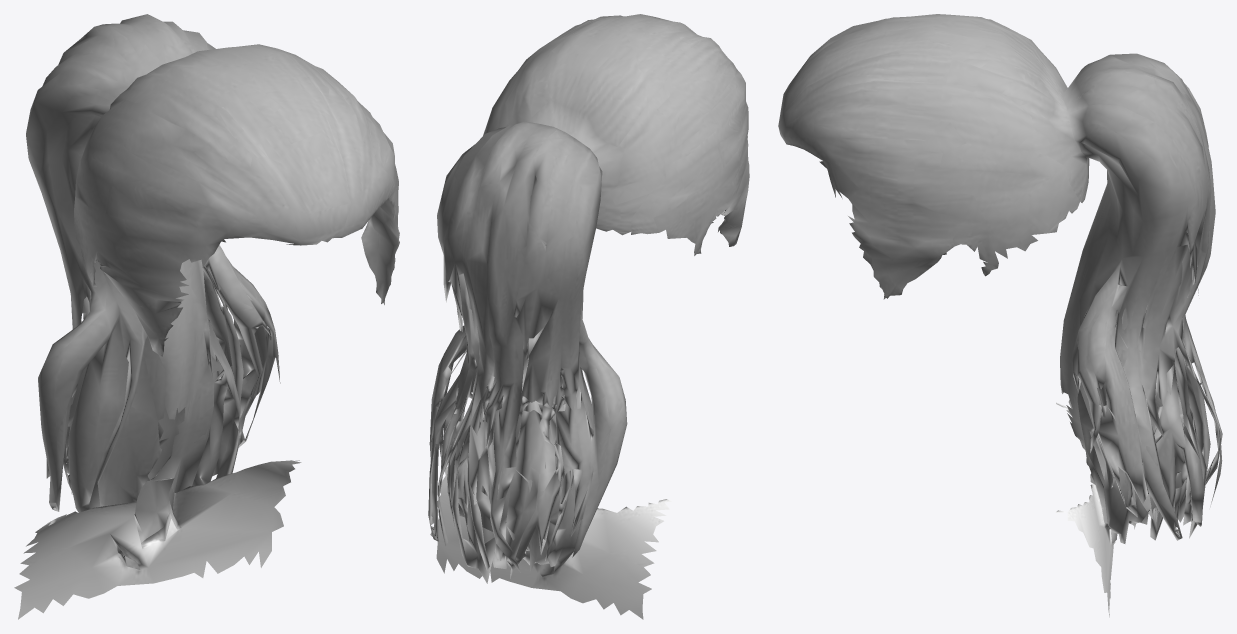
Rendered from hair_tail.glb.
The picture shows the model from 3 angles, left to right: view 1: azimuth 30°, elevation 25°; view 2: azimuth 150°, elevation 25°; view 3: azimuth 270°, elevation 25°; orthographic projection. The views are drawn at different scales.
Visible parts, largest first — view 1: Hair; view 2: Hair; view 3: Hair.
Boxes of the visible parts, box(x1,y1,x2,y2) form: Hair: box(14, 14, 399, 619); Hair: box(428, 14, 749, 619); Hair: box(778, 14, 1222, 617).
Size of the model in its own units: 0.8512 by 1.82 by 1.36.
1 material, 1 textured.
